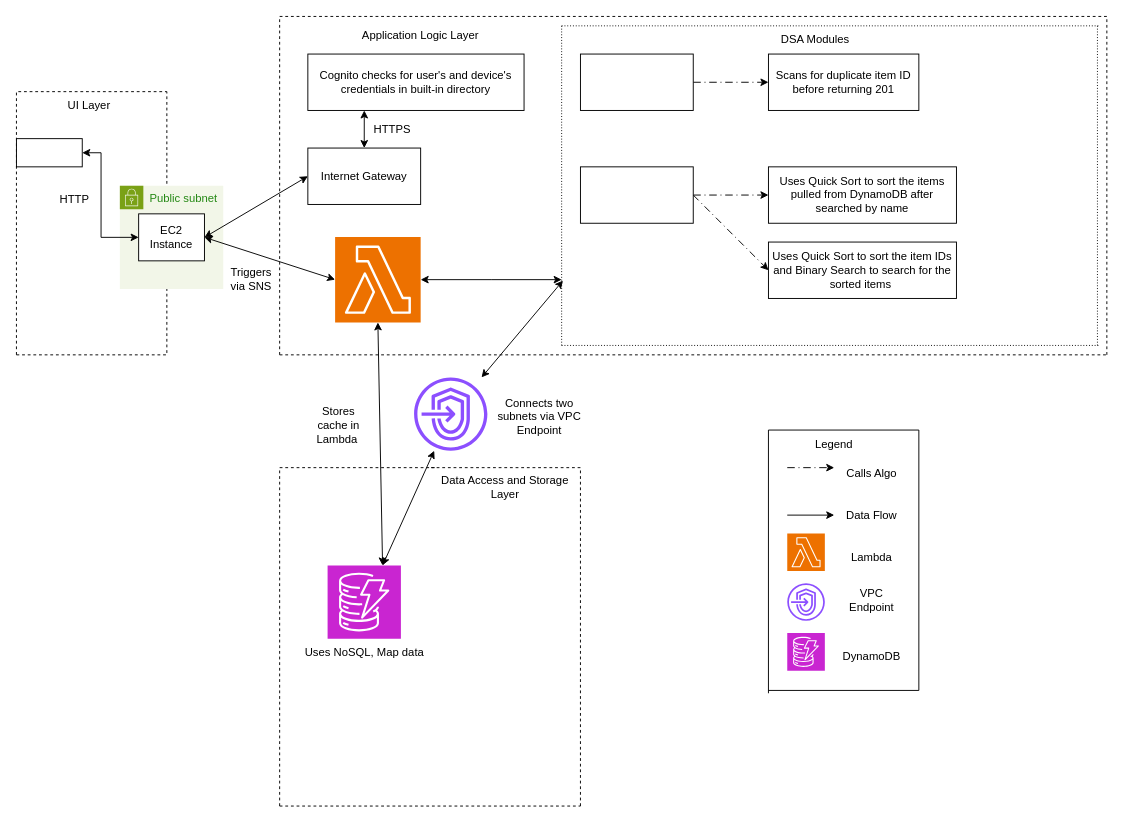
This 1124x823 diagram has some shape labels left out. The shapes that lost their labels are listed below. From the top down, each one's centre as x and y in pixels, then its label:
[636,81]: Storing Items
[49,152]: Web Front-end
[636,194]: Sorting and Searching
